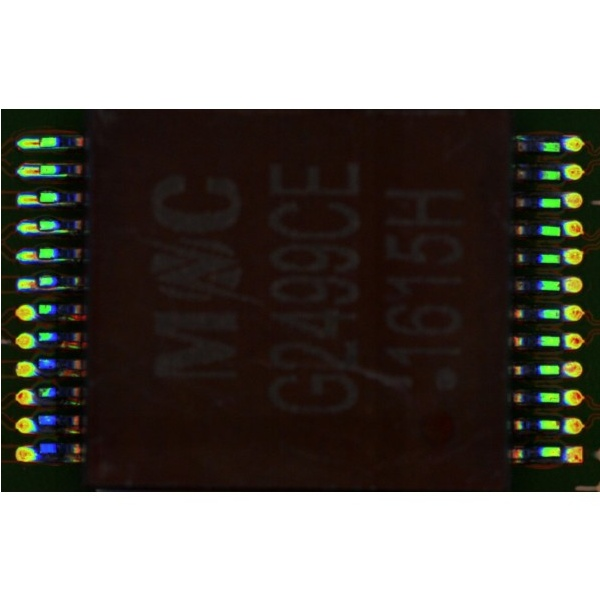Bad_podu: (23, 166, 47, 173), (22, 222, 46, 229), (25, 139, 48, 146), (23, 194, 45, 201), (25, 279, 45, 285), (26, 251, 43, 258)
Bad_qiaojiao: (40, 227, 74, 233), (39, 284, 72, 290), (38, 257, 72, 262), (40, 201, 73, 206), (40, 173, 72, 177)
